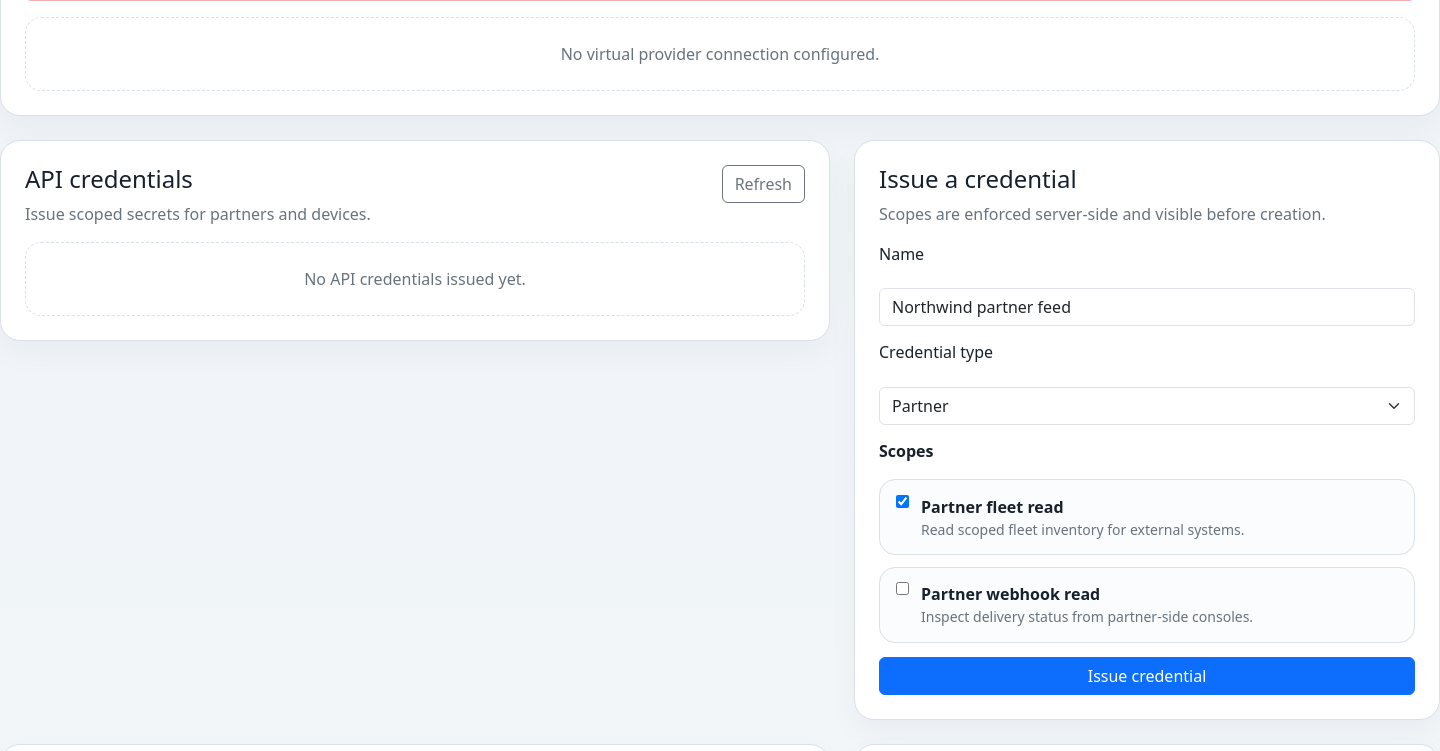
IntegrationsAdminView › creates a credential and reveals the one-time secret
The width and height of the screenshot is (1440, 751).
(page scrolled)
Select "Device" in the dropdown with id "credentialType" at (1147, 406), box 879,387 -> 1415,425
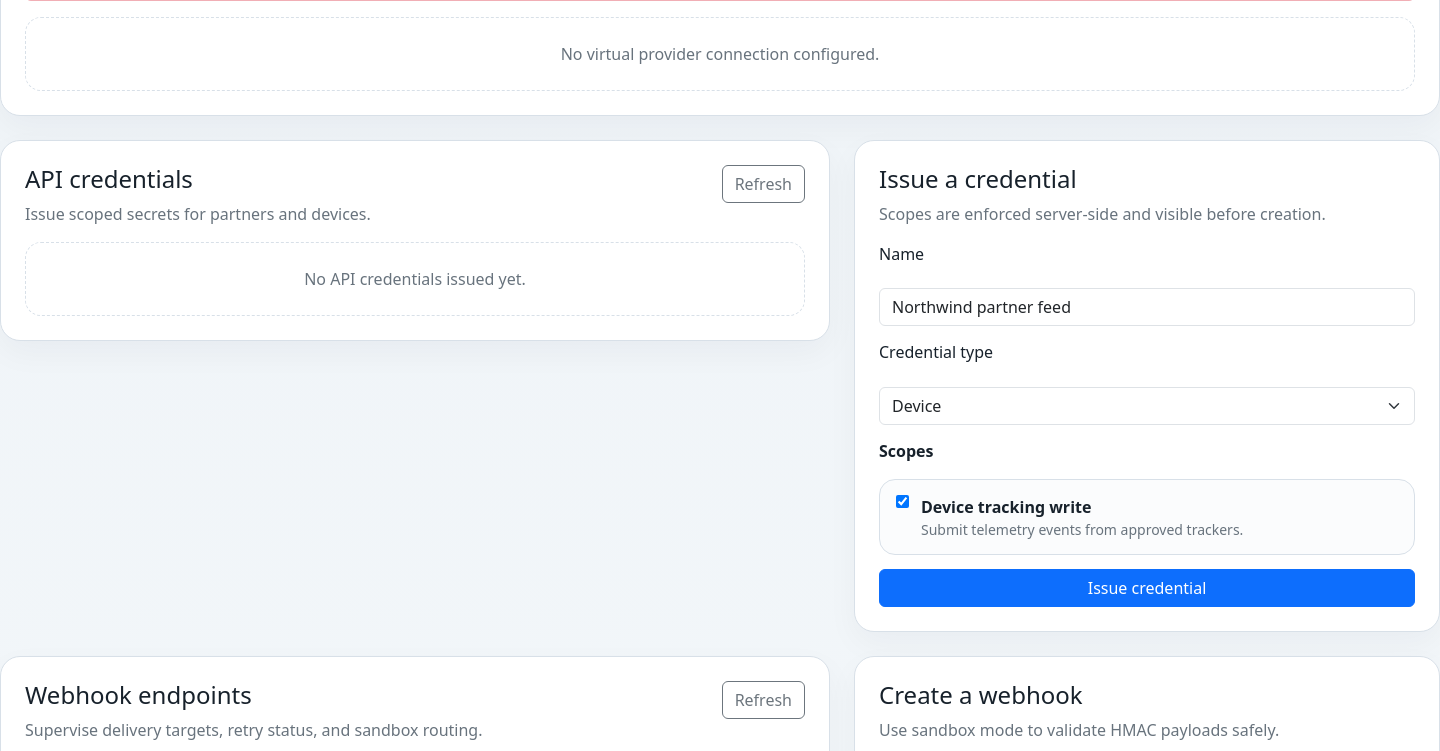
Replace the text in the field with id "credentialName" with "Fresh device" at (1147, 307), box 879,288 -> 1415,326
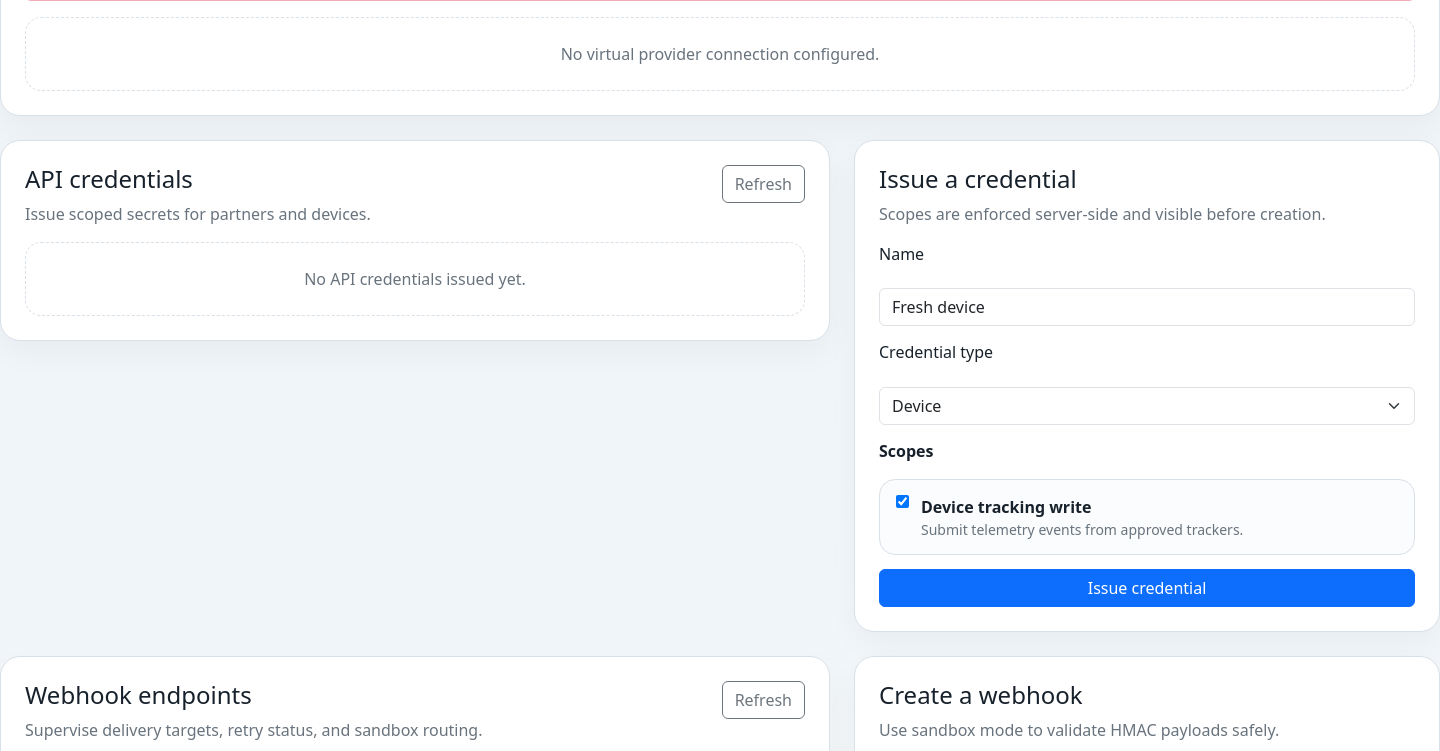
Submit the 1st form, box 879,242 -> 1415,607
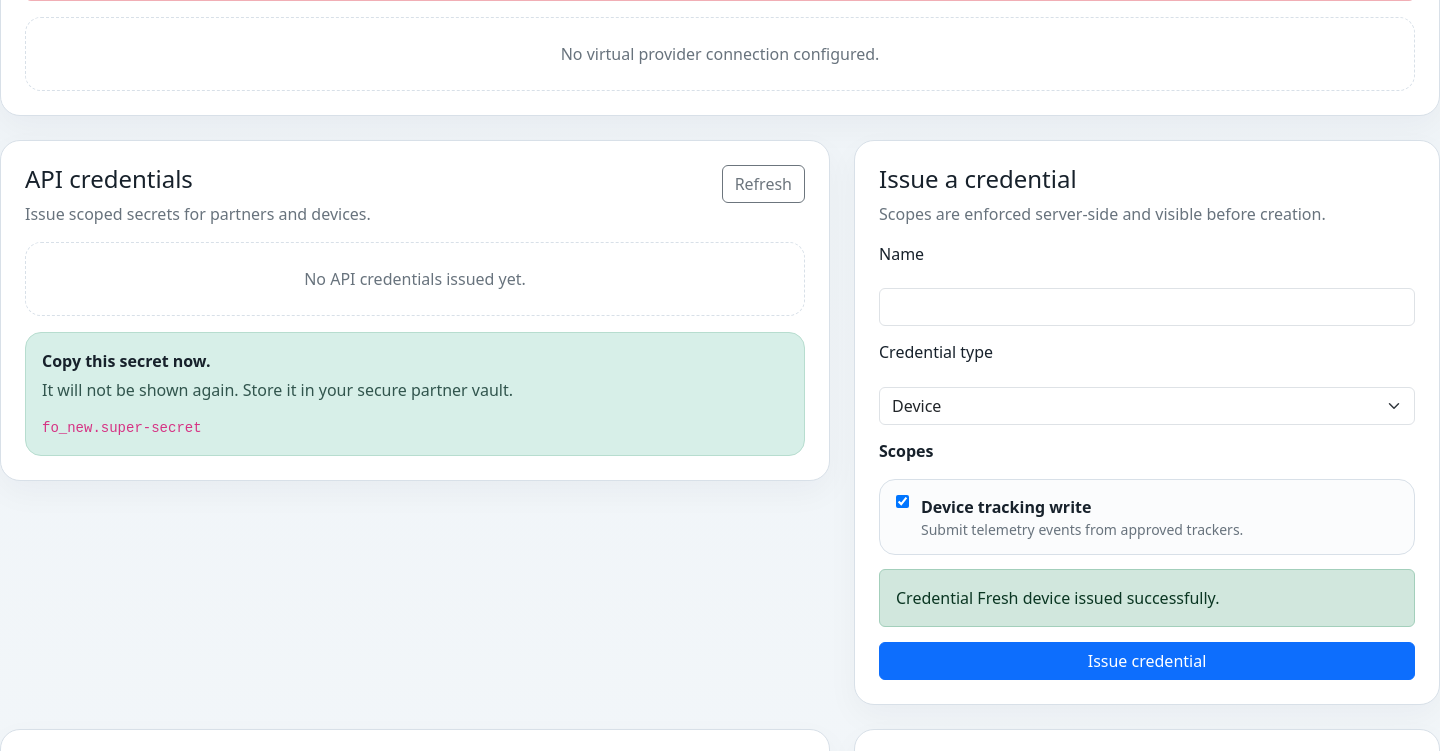
Expected: the text "Credential Fresh device issued successfully." is shown, 879,569 -> 1415,627
Expected: the text "fo_new.super-secret" is shown, 42,420 -> 202,436
